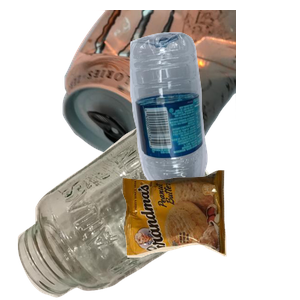glass: (15, 126, 229, 300)
metal: (60, 10, 300, 175)
plastic: (127, 29, 300, 209)
trash: (120, 168, 300, 300)
